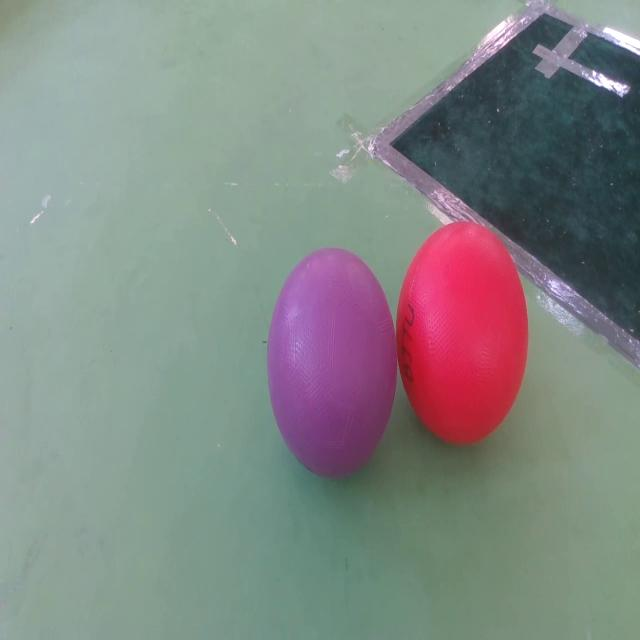invalid: (266, 246, 394, 469)
red: (395, 222, 530, 448)
